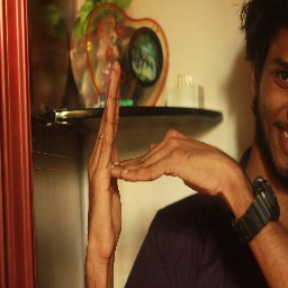Z: (88, 60, 229, 249)
